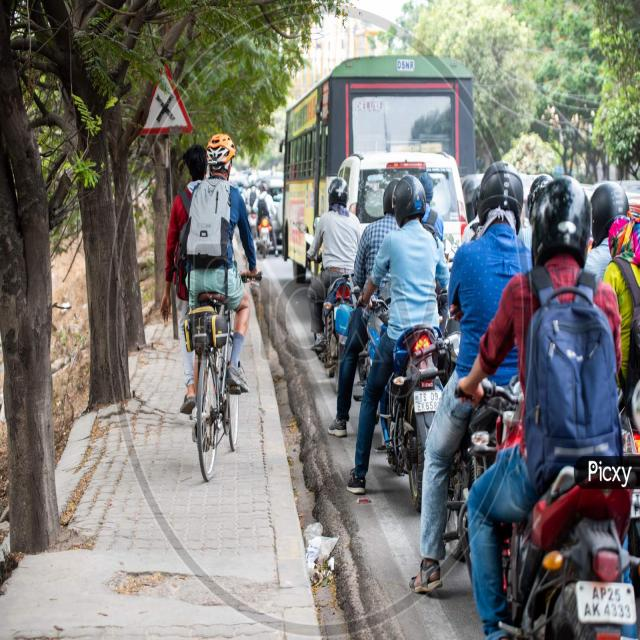motorcycle: (466, 367, 637, 640)
